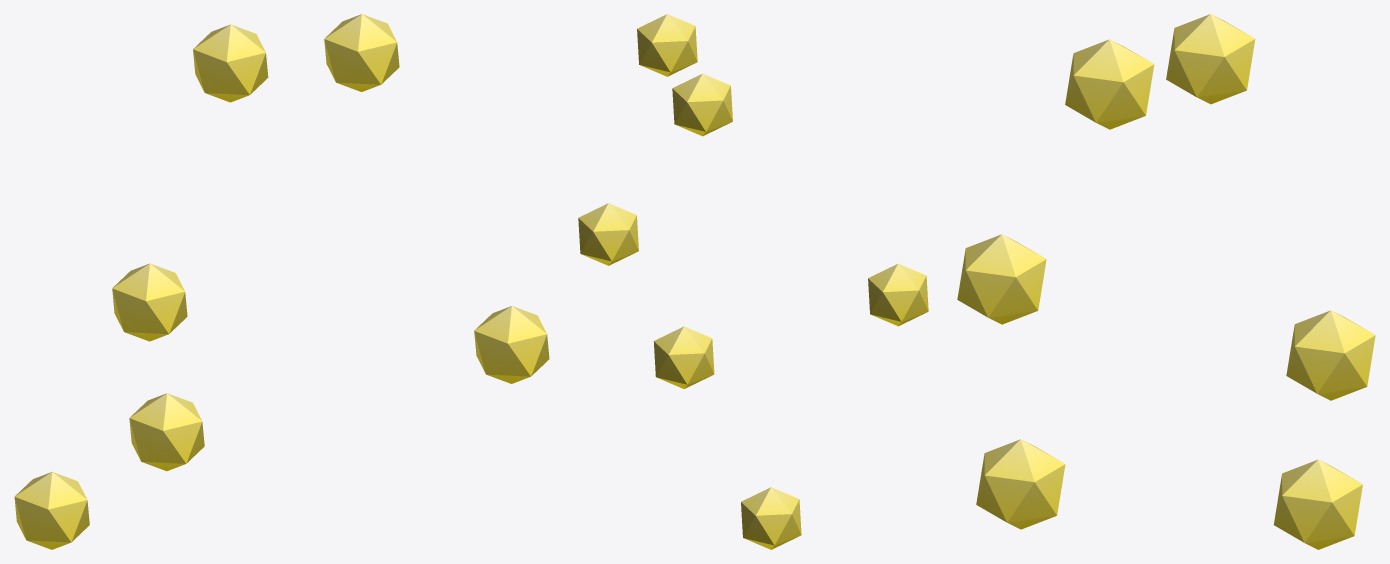
Rendered from GoldenBall.obj.
3 views of the same model, side by side, from view 1: azimuth 30°, elevation 25°; view 2: azimuth 150°, elevation 25°; view 3: azimuth 270°, elevation 25° (orthographic). The views are drawn at different scales.
Visible parts, largest first — view 1: Christmas_Tree_Ball_002_Mesh.011; view 2: Christmas_Tree_Ball_002_Mesh.011; view 3: Christmas_Tree_Ball_002_Mesh.011.
Boxes of the visible parts, x1,y1,x2,y2 form: Christmas_Tree_Ball_002_Mesh.011: (14,14,549,549); Christmas_Tree_Ball_002_Mesh.011: (578,14,928,549); Christmas_Tree_Ball_002_Mesh.011: (957,14,1375,549).
Size of the model in its own units: 1.77 by 2.22 by 1.33.
